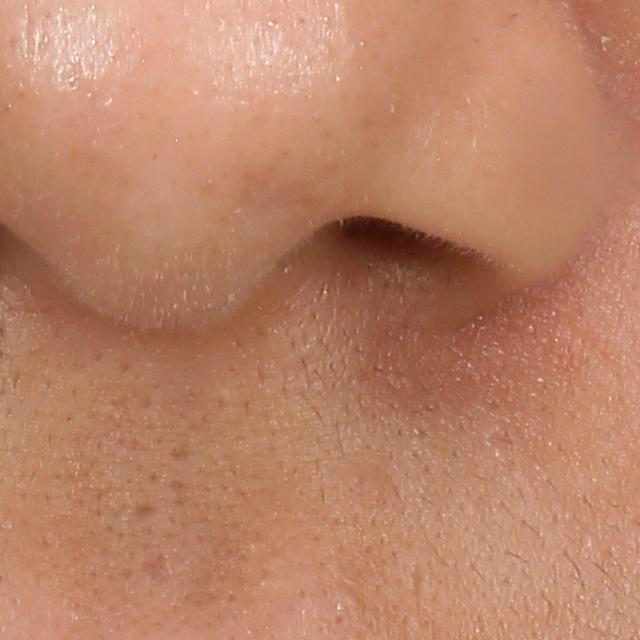atrophic_scar: (137, 557, 171, 585), (166, 435, 195, 465), (166, 472, 190, 507), (126, 500, 156, 519)
comedo: (342, 592, 364, 610)
